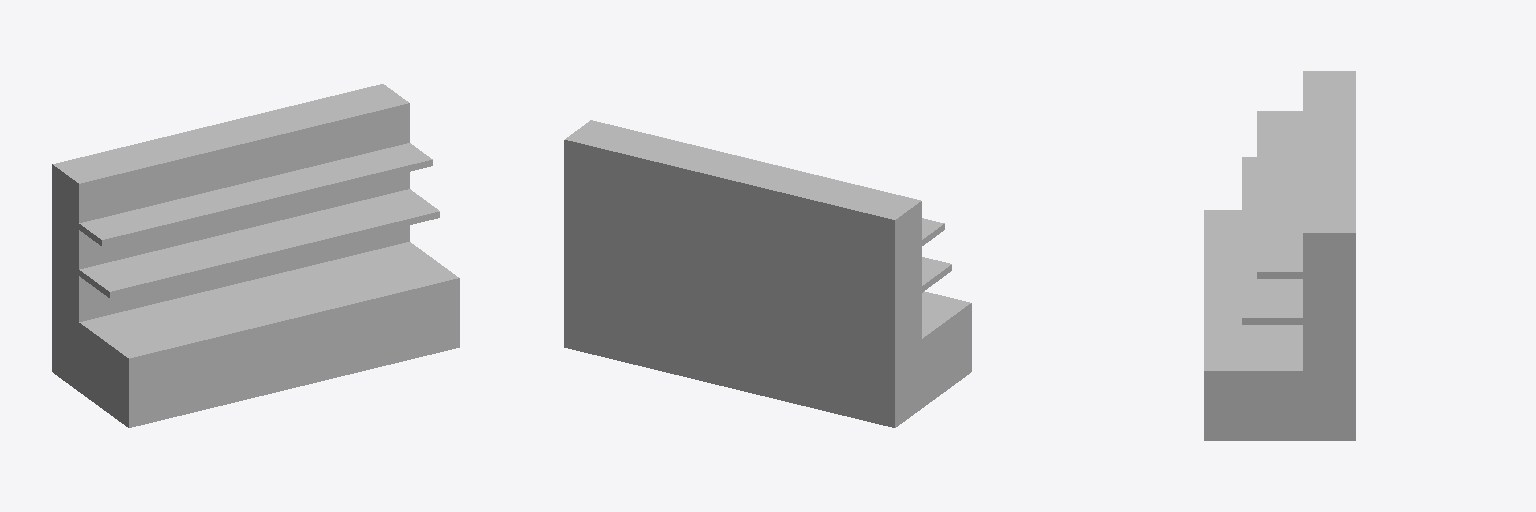
File: bookshelf.obj
3 views of the same model, side by side, from view 1: azimuth 30°, elevation 25°; view 2: azimuth 150°, elevation 25°; view 3: azimuth 270°, elevation 25° (orthographic).
Visible parts, largest first — view 1: BookShelf_Cube.013; view 2: BookShelf_Cube.013; view 3: BookShelf_Cube.013.
Part boxes in pixels (bbox=[...]): BookShelf_Cube.013: bbox=[52, 84, 459, 427]; BookShelf_Cube.013: bbox=[564, 120, 971, 427]; BookShelf_Cube.013: bbox=[1204, 71, 1355, 440].
Size of the model in its own units: 5 by 3.01 by 2.